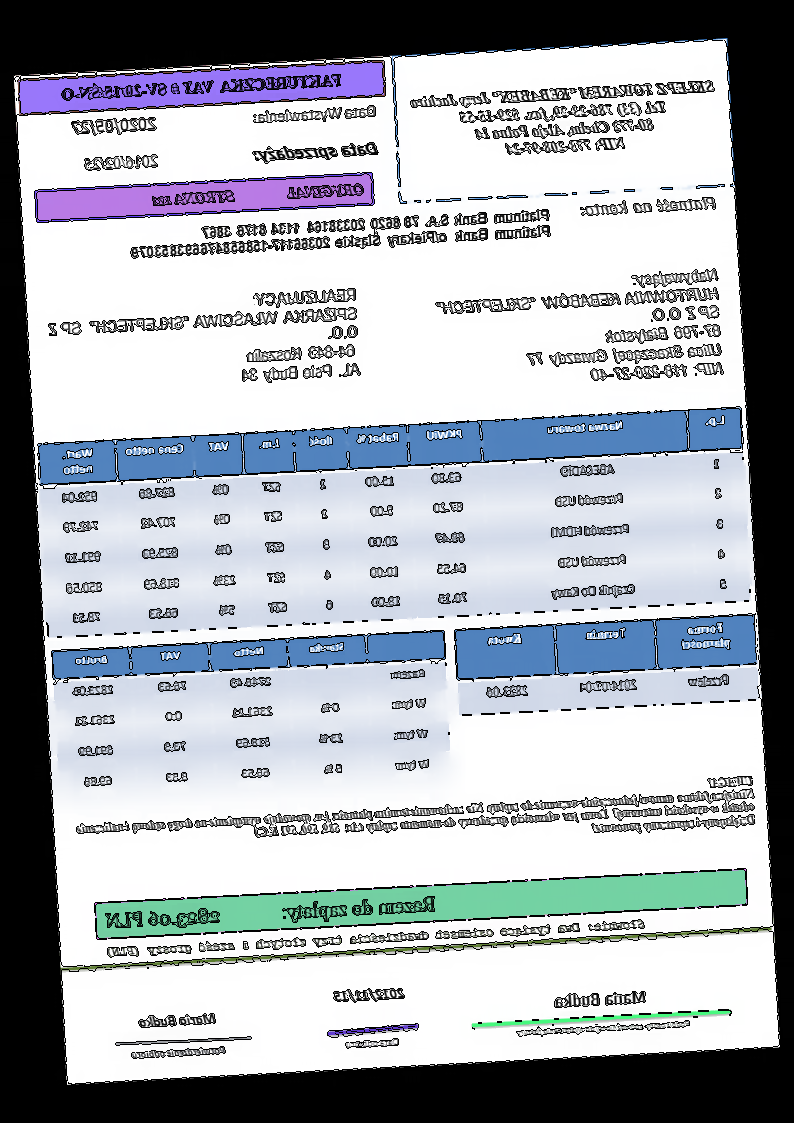Table: (37, 404, 753, 642), (50, 628, 455, 804), (452, 612, 760, 717)
TextBox: (74, 771, 758, 864), (432, 265, 725, 391), (44, 285, 364, 394), (409, 75, 721, 166), (125, 205, 552, 264), (105, 916, 650, 960), (103, 890, 441, 937), (55, 66, 344, 107), (149, 180, 367, 210), (512, 1017, 694, 1038), (580, 193, 718, 219), (251, 101, 381, 126), (251, 141, 381, 165), (68, 112, 159, 139), (550, 987, 650, 1011), (129, 1042, 228, 1062), (135, 1010, 219, 1031), (82, 152, 160, 172), (330, 984, 408, 1004), (341, 1034, 403, 1052)
